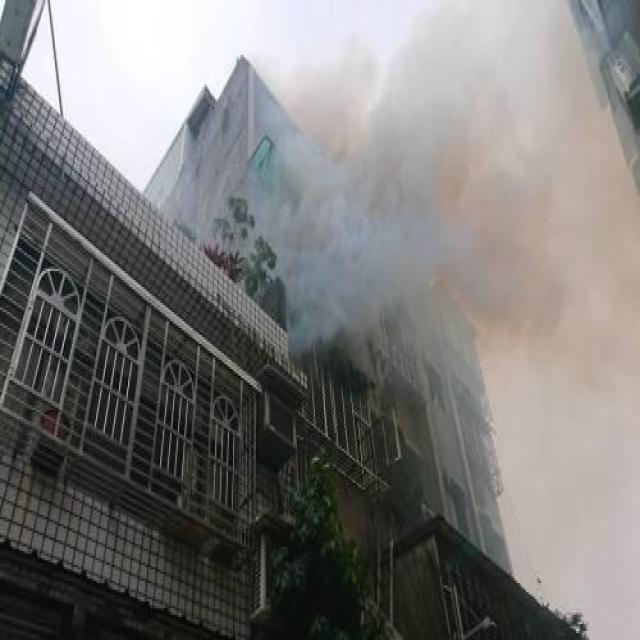Smoke: (247, 2, 640, 360)
